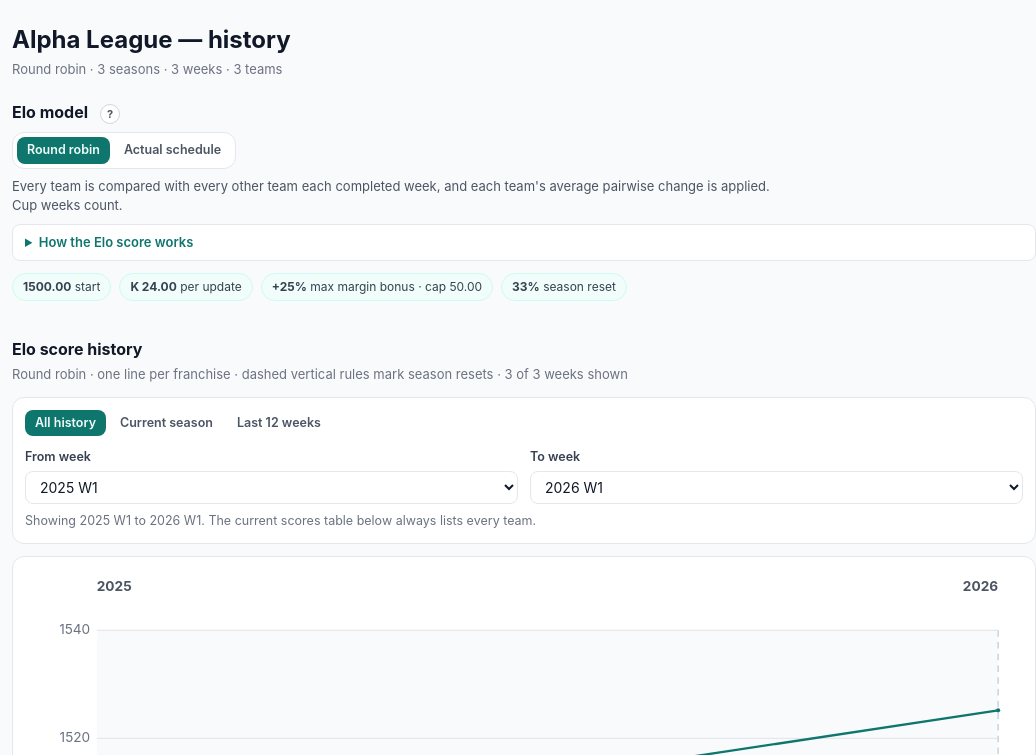
Test: HistoryPage › shows an empty state when the current season has no rated weeks
The image size is (1036, 755).
Click the button "Current season": (166,423) [110,410,223,436]
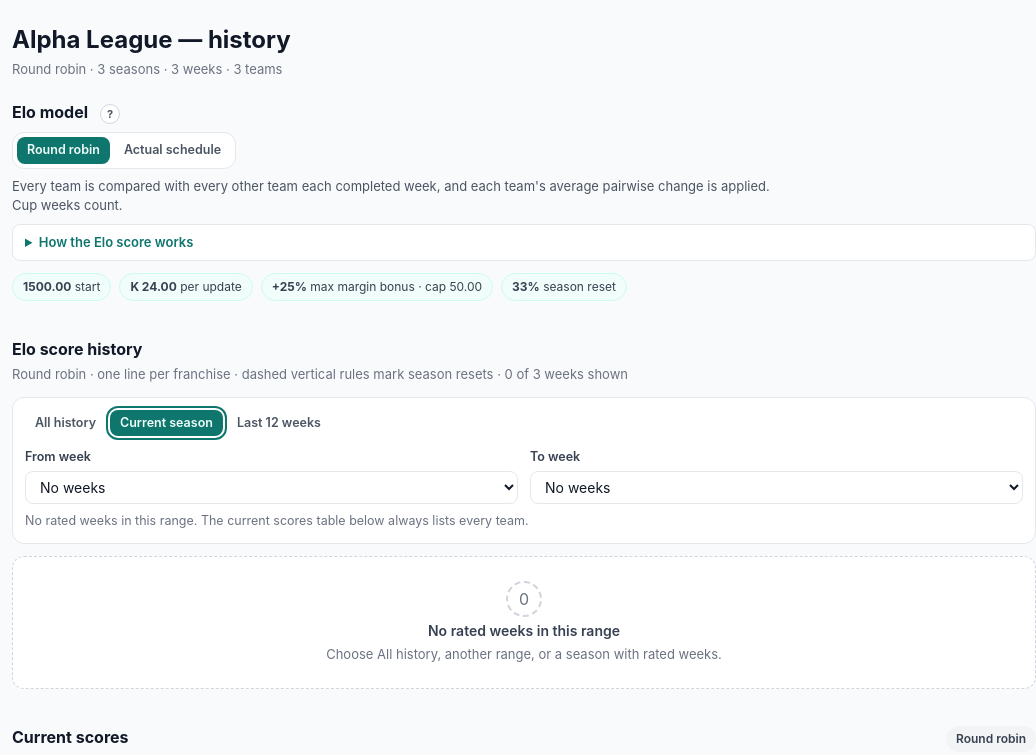
Expected: the text "The current scores table below always lists every team" is shown, [201,513,529,528]
Now the text "No rated weeks in this range" is shown, box [428,622,620,639]
